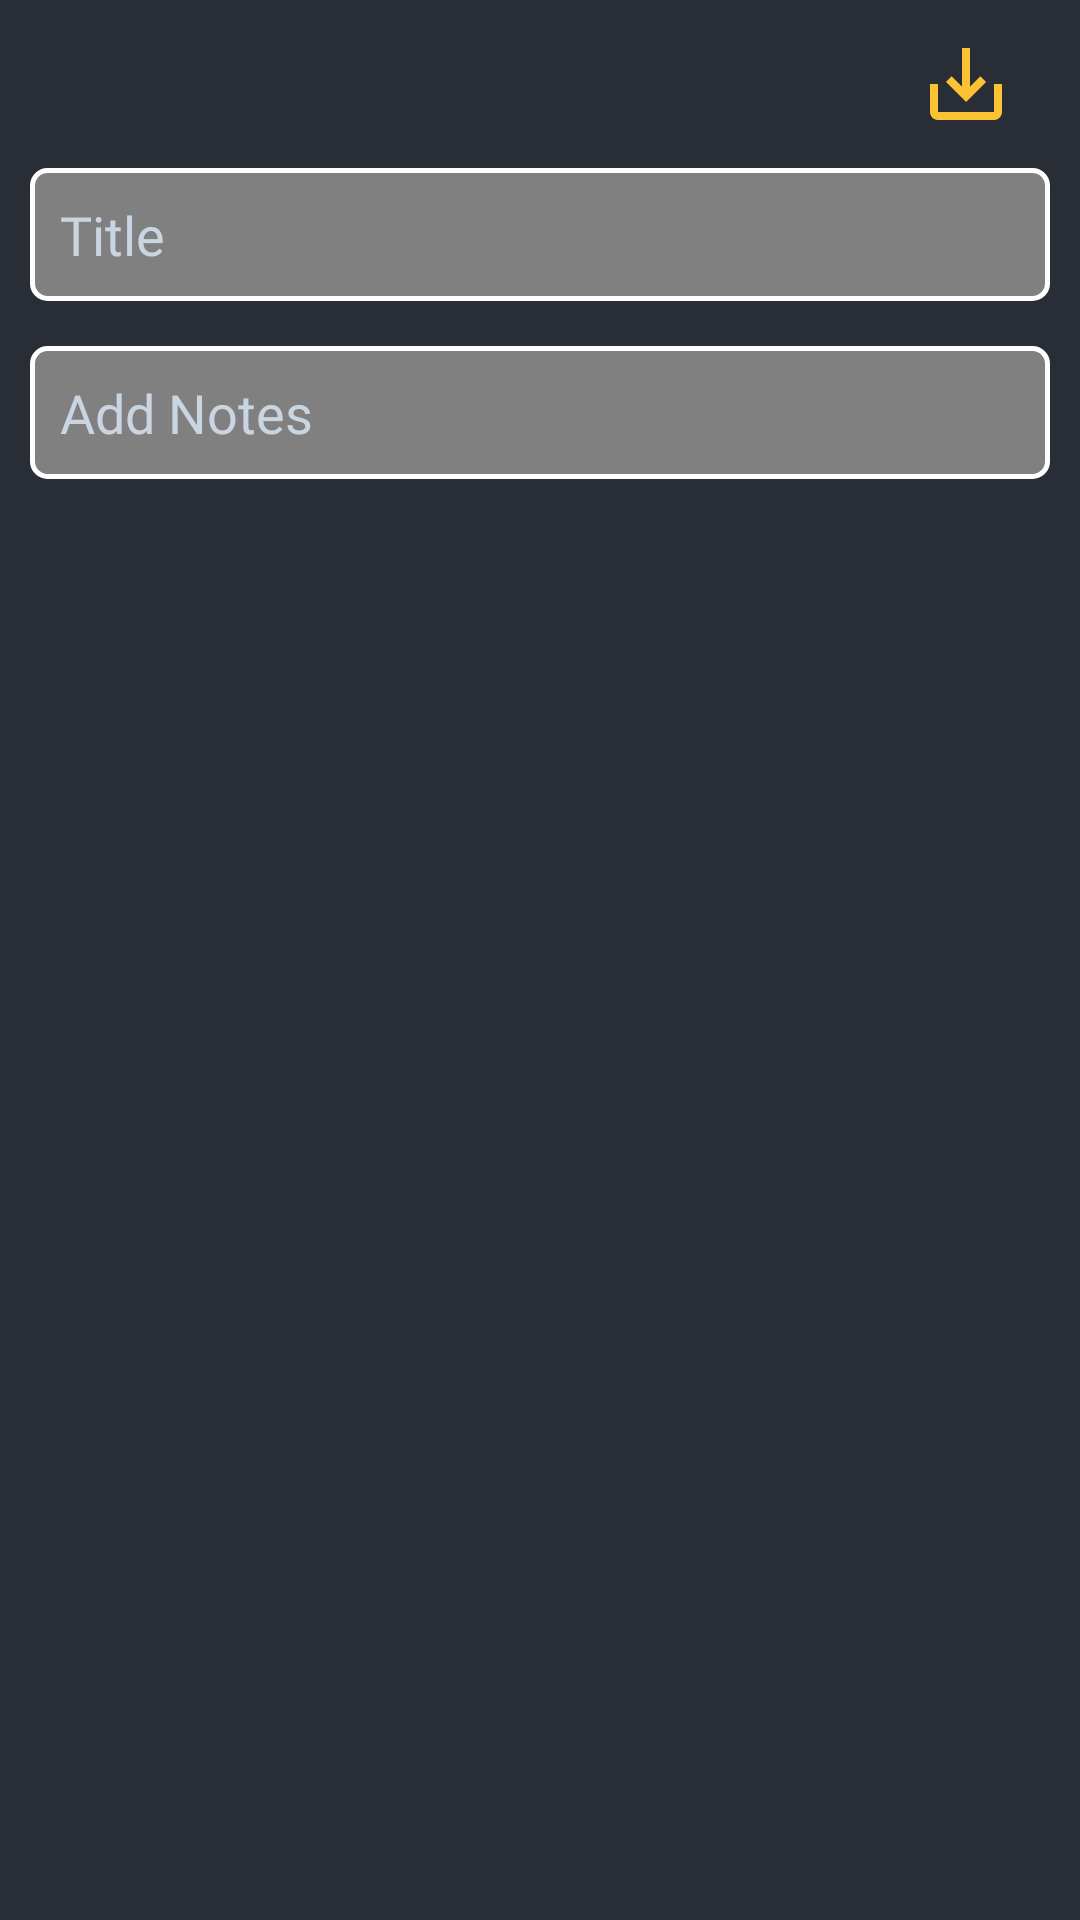

Where icons sit on this 1080px x 1920px app screen, as (x1, y1, x2, y2):
save: (930, 48, 1002, 120)
